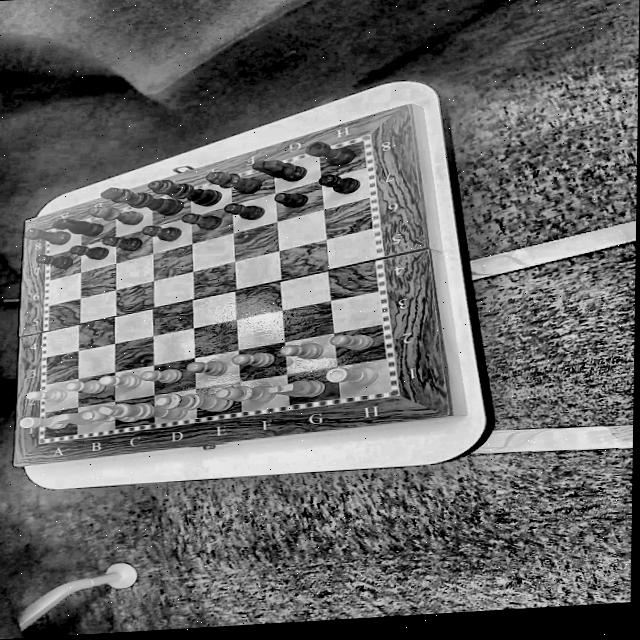chessboard: (46, 140, 391, 437)
